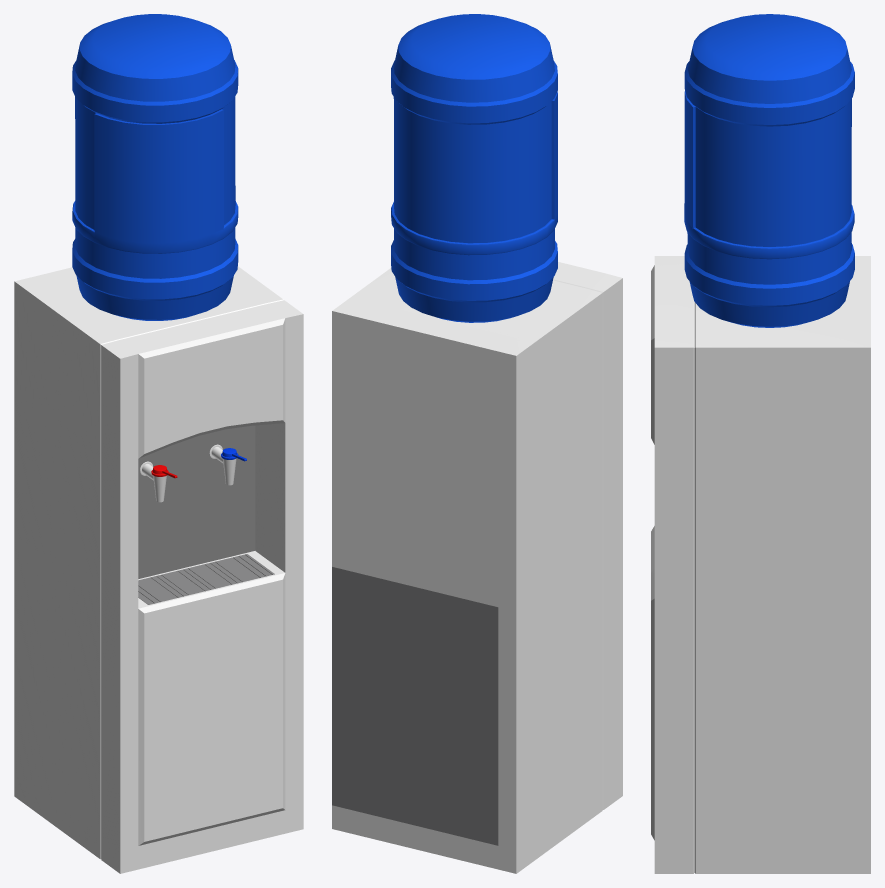
File: Water cooler.fbx
3 views of the same model, side by side, from view 1: azimuth 30°, elevation 25°; view 2: azimuth 150°, elevation 25°; view 3: azimuth 270°, elevation 25° (orthographic). The views are drawn at different scales.
Parts seen in each view (by area): view 1: Water cooler; view 2: Water cooler; view 3: Water cooler.
Part boxes in pixels (bbox=[...]): Water cooler: bbox=[14, 14, 303, 873]; Water cooler: bbox=[332, 14, 622, 873]; Water cooler: bbox=[651, 14, 870, 873].
Size of the model in its own units: 35 by 141 by 35.59.
